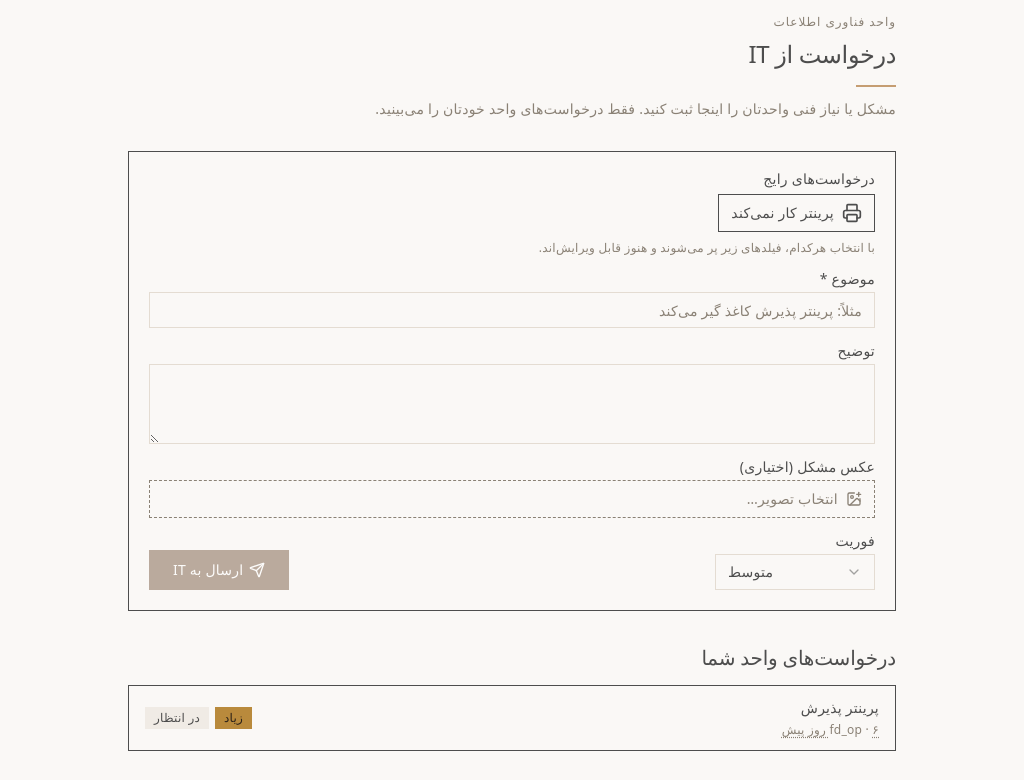
Test: ITRequestsPage › fills the form from a one-click template
Click the button "پرینتر کار نمی‌کند": (797, 213) [718,194,875,232]
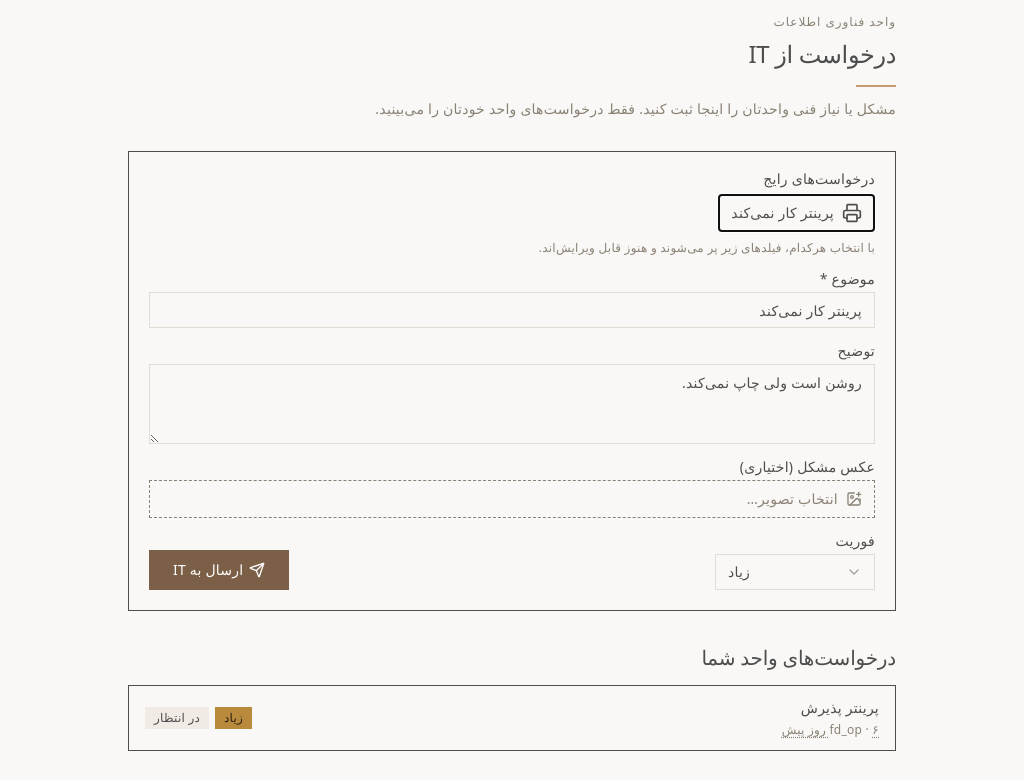
Check: the field labelled "موضوع *" holds "پرینتر کار نمی‌کند", box [149,292,875,328]
Check: the text box labelled "توضیح" holds "روشن است ولی چاپ نمی‌کند.", box [149,364,875,444]
